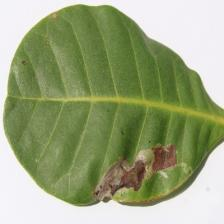leaf miner: (85, 128, 185, 207)
